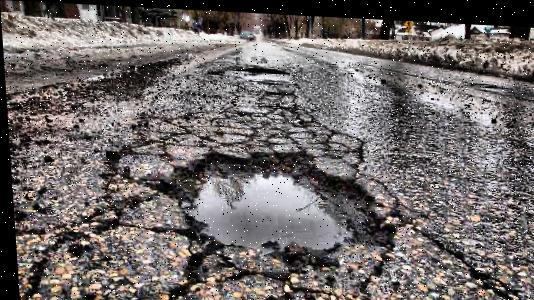pothole: (141, 137, 405, 274), (237, 62, 286, 73)
